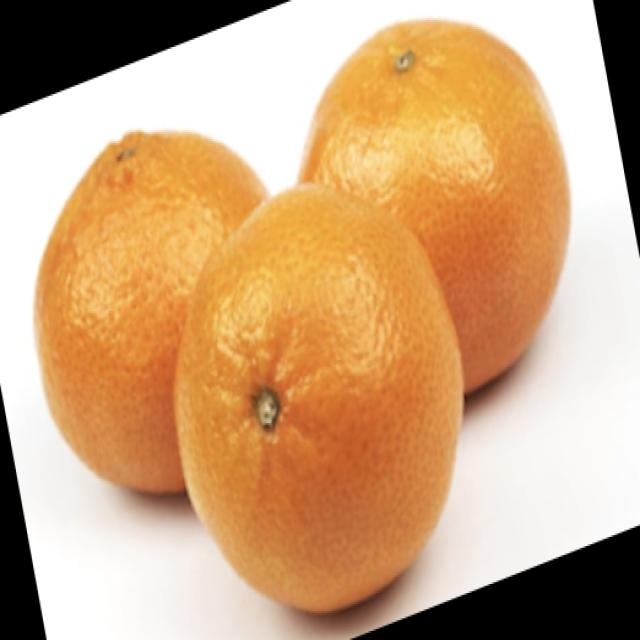matang: (172, 180, 461, 612), (301, 19, 567, 389), (37, 130, 269, 492)
